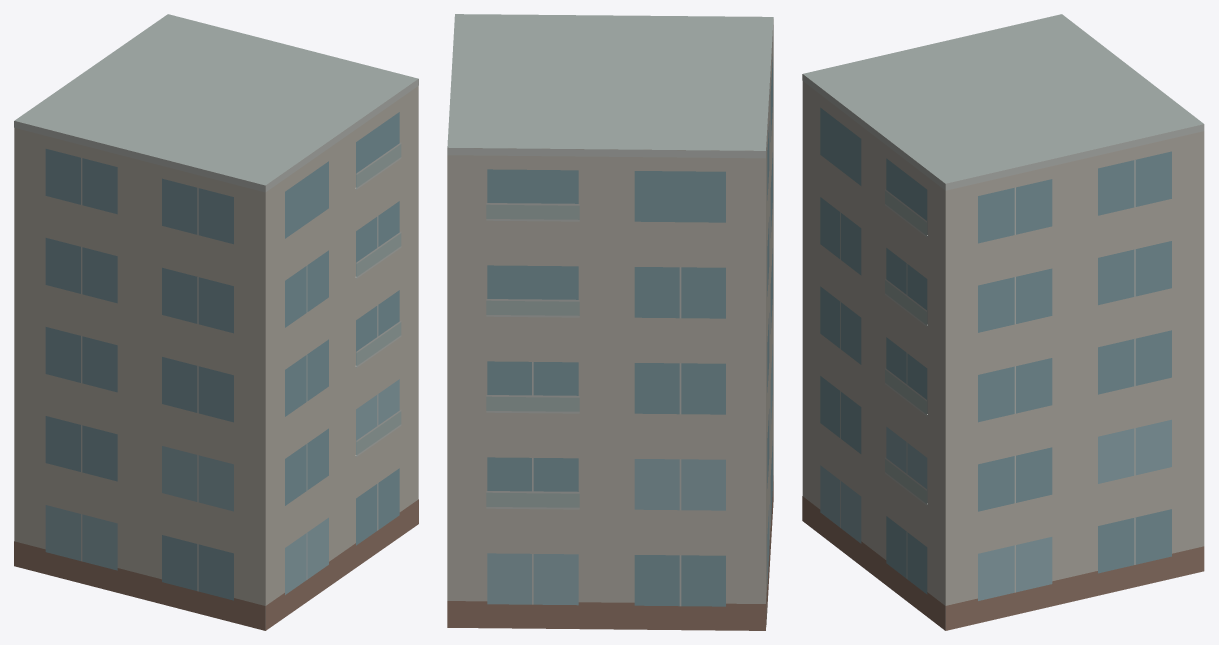
Rendered from survey-upis-32533294.glb.
The picture shows the model from 3 angles, left to right: view 1: azimuth 30°, elevation 25°; view 2: azimuth 150°, elevation 25°; view 3: azimuth 270°, elevation 25°; orthographic projection. The views are drawn at different scales.
Parts seen in each view (by area): view 1: survey-upis-32533294.tmp; view 2: survey-upis-32533294.tmp; view 3: survey-upis-32533294.tmp.
Part boxes in pixels (x1=…): survey-upis-32533294.tmp: x1=14, y1=14, x2=418, y2=630; survey-upis-32533294.tmp: x1=447, y1=14, x2=773, y2=630; survey-upis-32533294.tmp: x1=802, y1=14, x2=1204, y2=630.
Bounding box in the file's own units: 12.8 × 15.7 × 12.8.
